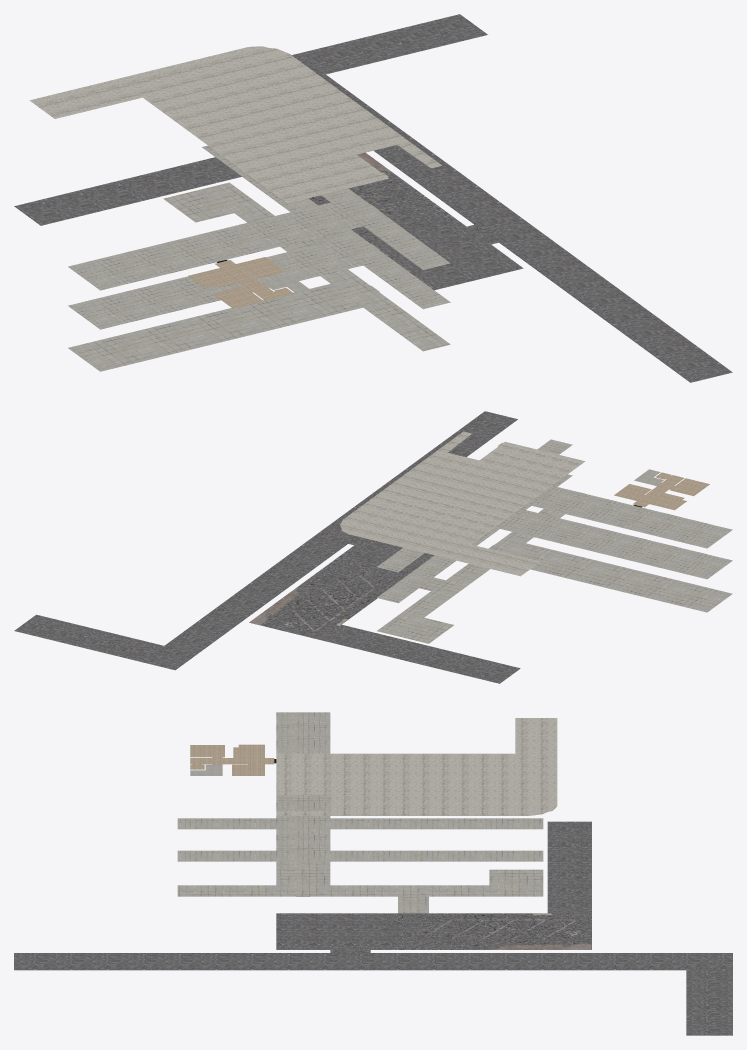
Rendered from PISOS.fbx.
3 views of the same model, one above another, from view 1: azimuth 30°, elevation 25°; view 2: azimuth 150°, elevation 25°; view 3: azimuth 270°, elevation 25° (orthographic). The views are drawn at different scales.
Parts seen in each view (by area): view 1: PAR.015, PAR.016, PAR.011, PAR.013, PAR.014, PISO CASA; view 2: PAR.015, PAR.016, PAR.011, PAR.014, PAR.013, PISO CASA; view 3: PAR.015, PAR.016, PAR.013, PAR.011, PAR.014, PISO CASA.
Part boxes in pixels (box(x1,y1,x2,y2)): PAR.015: box(14, 14, 732, 382); PAR.016: box(29, 46, 441, 203); PAR.011: box(68, 182, 450, 371); PAR.013: box(68, 188, 450, 290); PAR.014: box(68, 145, 450, 329); PISO CASA: box(188, 257, 294, 308); PAR.015: box(14, 411, 520, 683); PAR.016: box(340, 431, 585, 576); PAR.011: box(377, 509, 732, 643); PAR.014: box(377, 474, 732, 603); PAR.013: box(377, 439, 732, 572); PISO CASA: box(614, 472, 709, 510); PAR.015: box(14, 821, 732, 1035); PAR.016: box(276, 718, 557, 815); PAR.013: box(177, 712, 543, 829); PAR.011: box(177, 861, 543, 913); PAR.014: box(177, 829, 543, 861); PISO CASA: box(190, 744, 274, 775).
Size of the model in its own units: 7842 by 1444 by 9297.
Materials: 7 (6 with a texture image).
